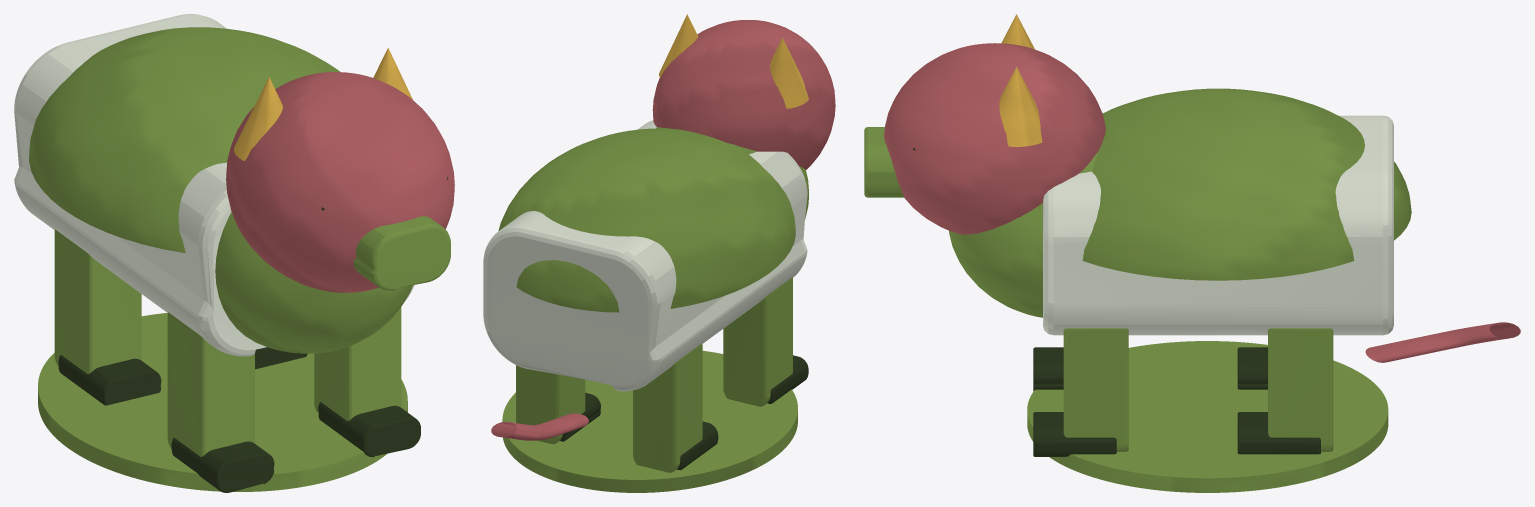
Rendered from 0837_两栖动物图鉴_非洲牛蛙.glb.
The picture shows the model from 3 angles, left to right: view 1: azimuth 30°, elevation 25°; view 2: azimuth 150°, elevation 25°; view 3: azimuth 270°, elevation 25°; orthographic projection. The views are drawn at different scales.
Visible parts, largest first — view 1: card_0837; view 2: card_0837; view 3: card_0837.
Boxes of the visible parts, bbox=[...] form: card_0837: bbox=[14, 14, 454, 492]; card_0837: bbox=[483, 14, 835, 492]; card_0837: bbox=[864, 14, 1520, 492].
Size of the model in its own units: 0.7663 by 1 by 1.55.
